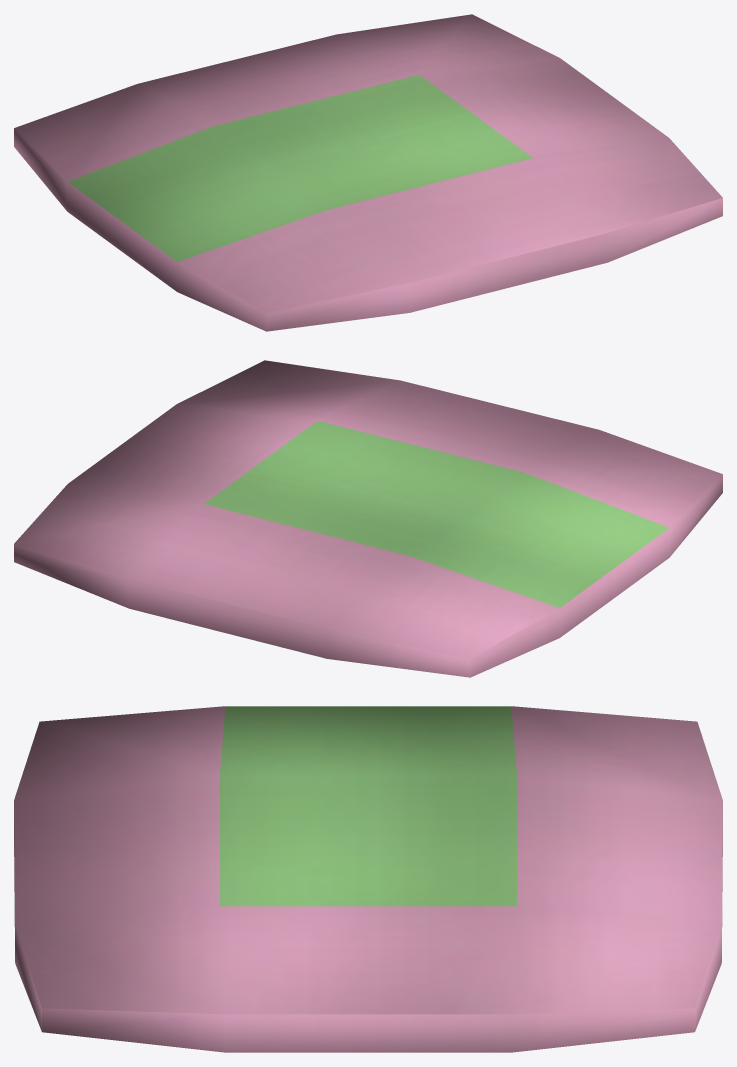
The model's file is flower_b.glb.
The picture shows the model from 3 angles, top to bottom: view 1: azimuth 30°, elevation 25°; view 2: azimuth 150°, elevation 25°; view 3: azimuth 270°, elevation 25°; orthographic projection. The views are drawn at different scales.
Visible parts, largest first — view 1: lod0; view 2: lod0; view 3: lod0.
Boxes of the visible parts, x1=… form: lod0: x1=14, y1=14, x2=722, y2=331; lod0: x1=14, y1=360, x2=722, y2=677; lod0: x1=14, y1=706, x2=722, y2=1052.
Size of the model in its own units: 0.134 by 0.0127 by 0.1282.
Materials: 1 (1 with a texture image).
